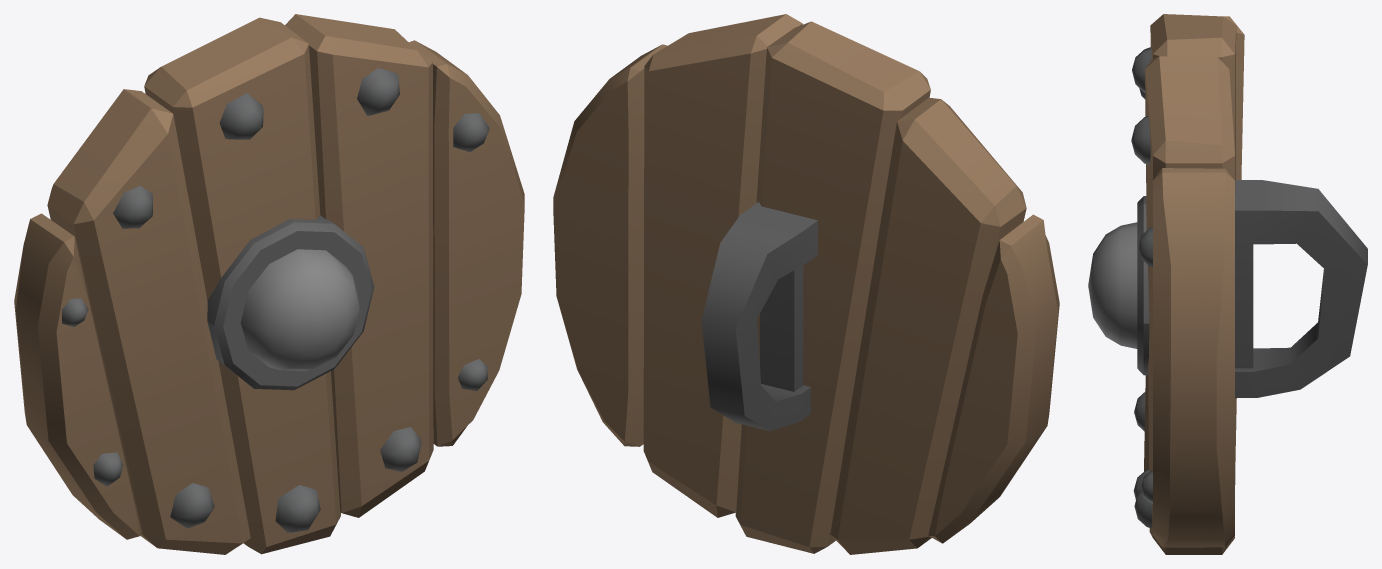
File: Shield_1.fbx
The picture shows the model from 3 angles, left to right: view 1: azimuth 30°, elevation 25°; view 2: azimuth 150°, elevation 25°; view 3: azimuth 270°, elevation 25°; orthographic projection. The views are drawn at different scales.
Parts seen in each view (by area): view 1: Shield_1; view 2: Shield_1; view 3: Shield_1.
Boxes of the visible parts, <box> form: Shield_1: <box>14,14,524,554</box>; Shield_1: <box>553,14,1059,554</box>; Shield_1: <box>1088,14,1367,554</box>.
Size of the model in its own units: 72.1 by 72.11 by 36.98.
